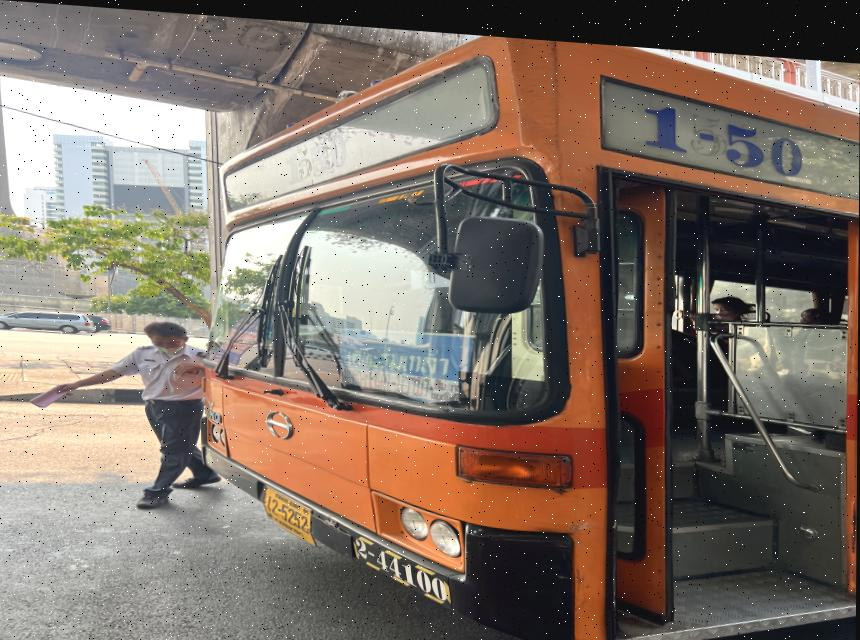BMTA-bus: (200, 28, 860, 640)
Bus Line Number: (627, 86, 813, 172), (277, 113, 361, 189)
Bus Side Number: (351, 528, 457, 606)
Destination Sign: (338, 320, 481, 398)
